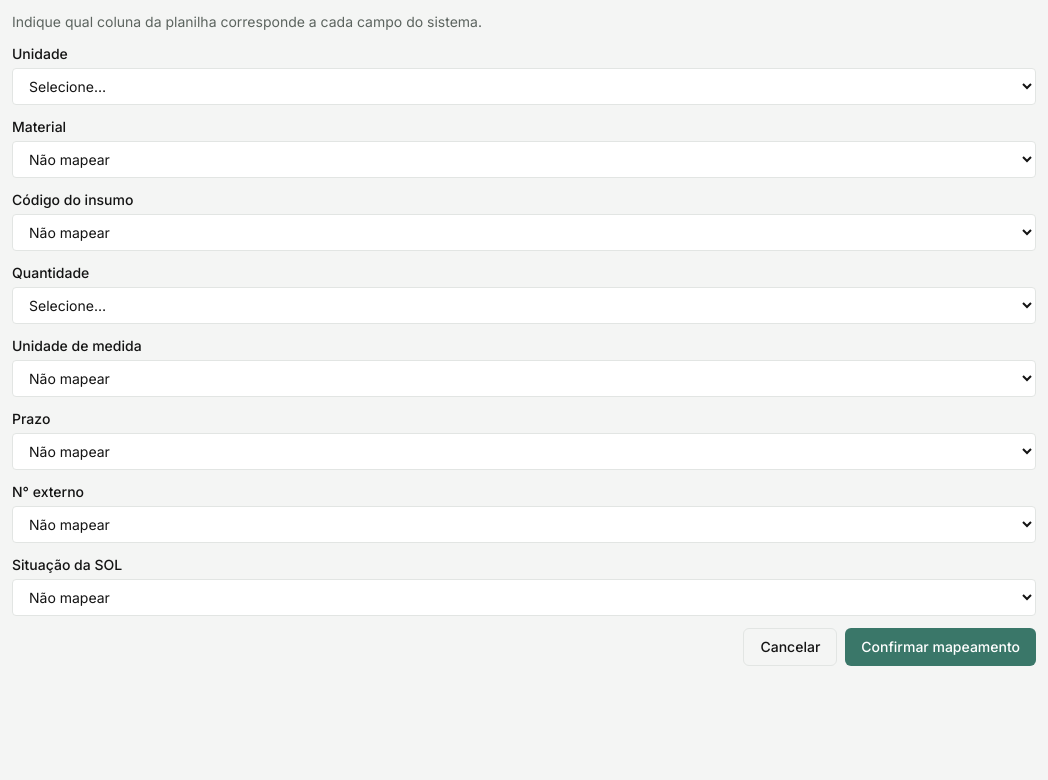
Test case: ImportMappingForm › mostra o campo de valor "aberto" só depois de mapear a coluna de situação
The width and height of the screenshot is (1048, 780).
Check: the field labelled "Valor que indica SOL aberta" is not shown
Select "Sit" in the dropdown labelled "Situação da SOL" at (524, 598), box [12,579,1036,616]
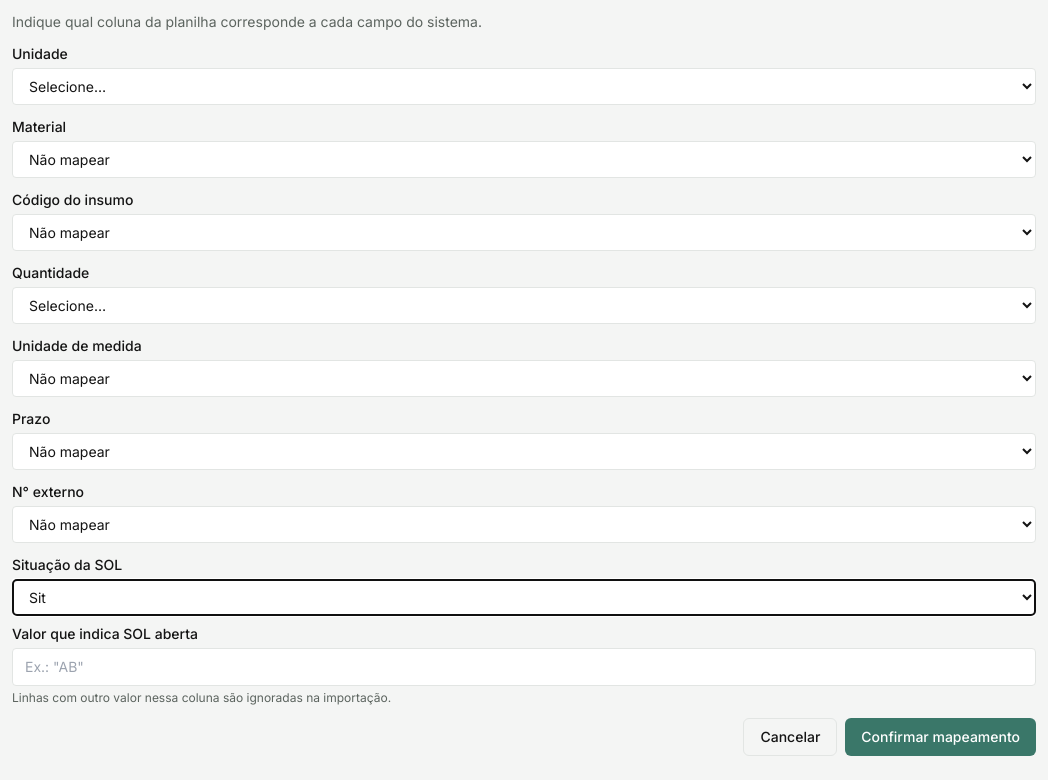
Check: the field labelled "Valor que indica SOL aberta" is shown, box [12,648,1036,686]
